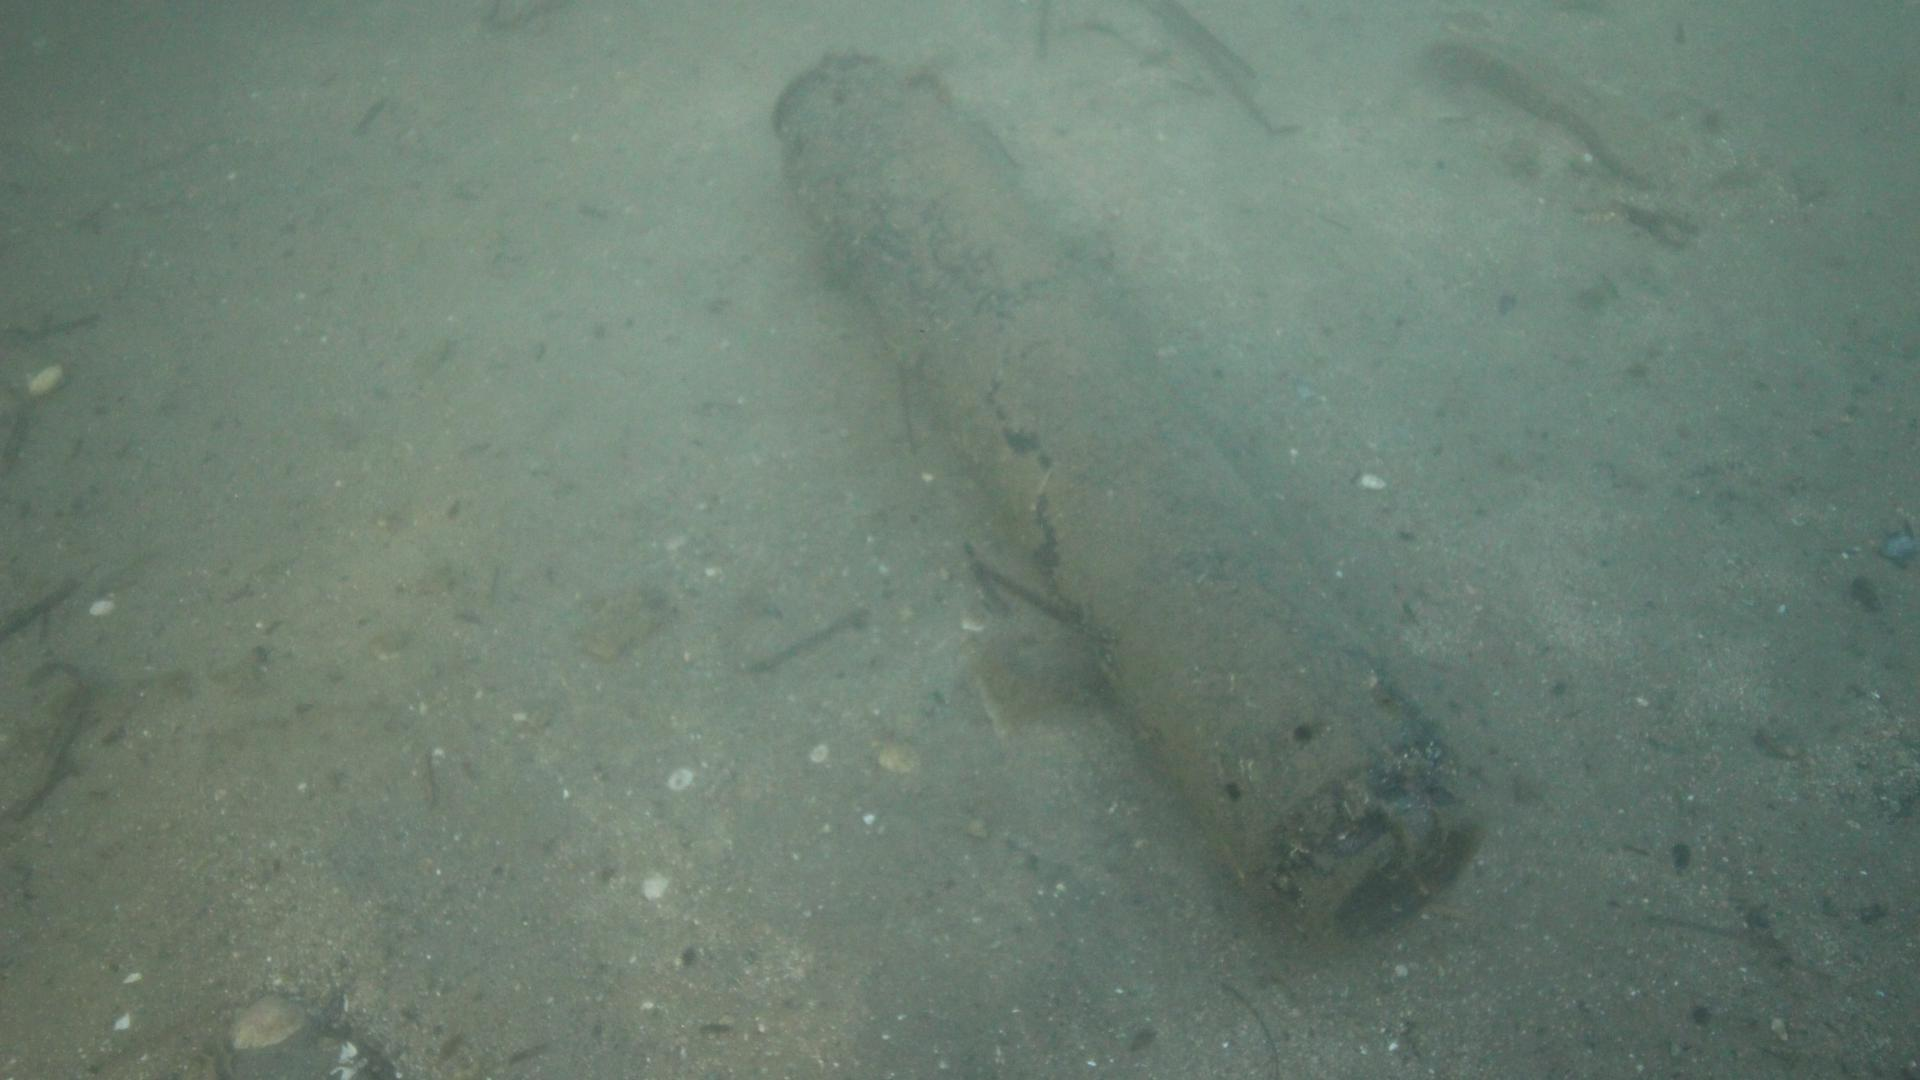eel fish trap: (769, 46, 1480, 934)
